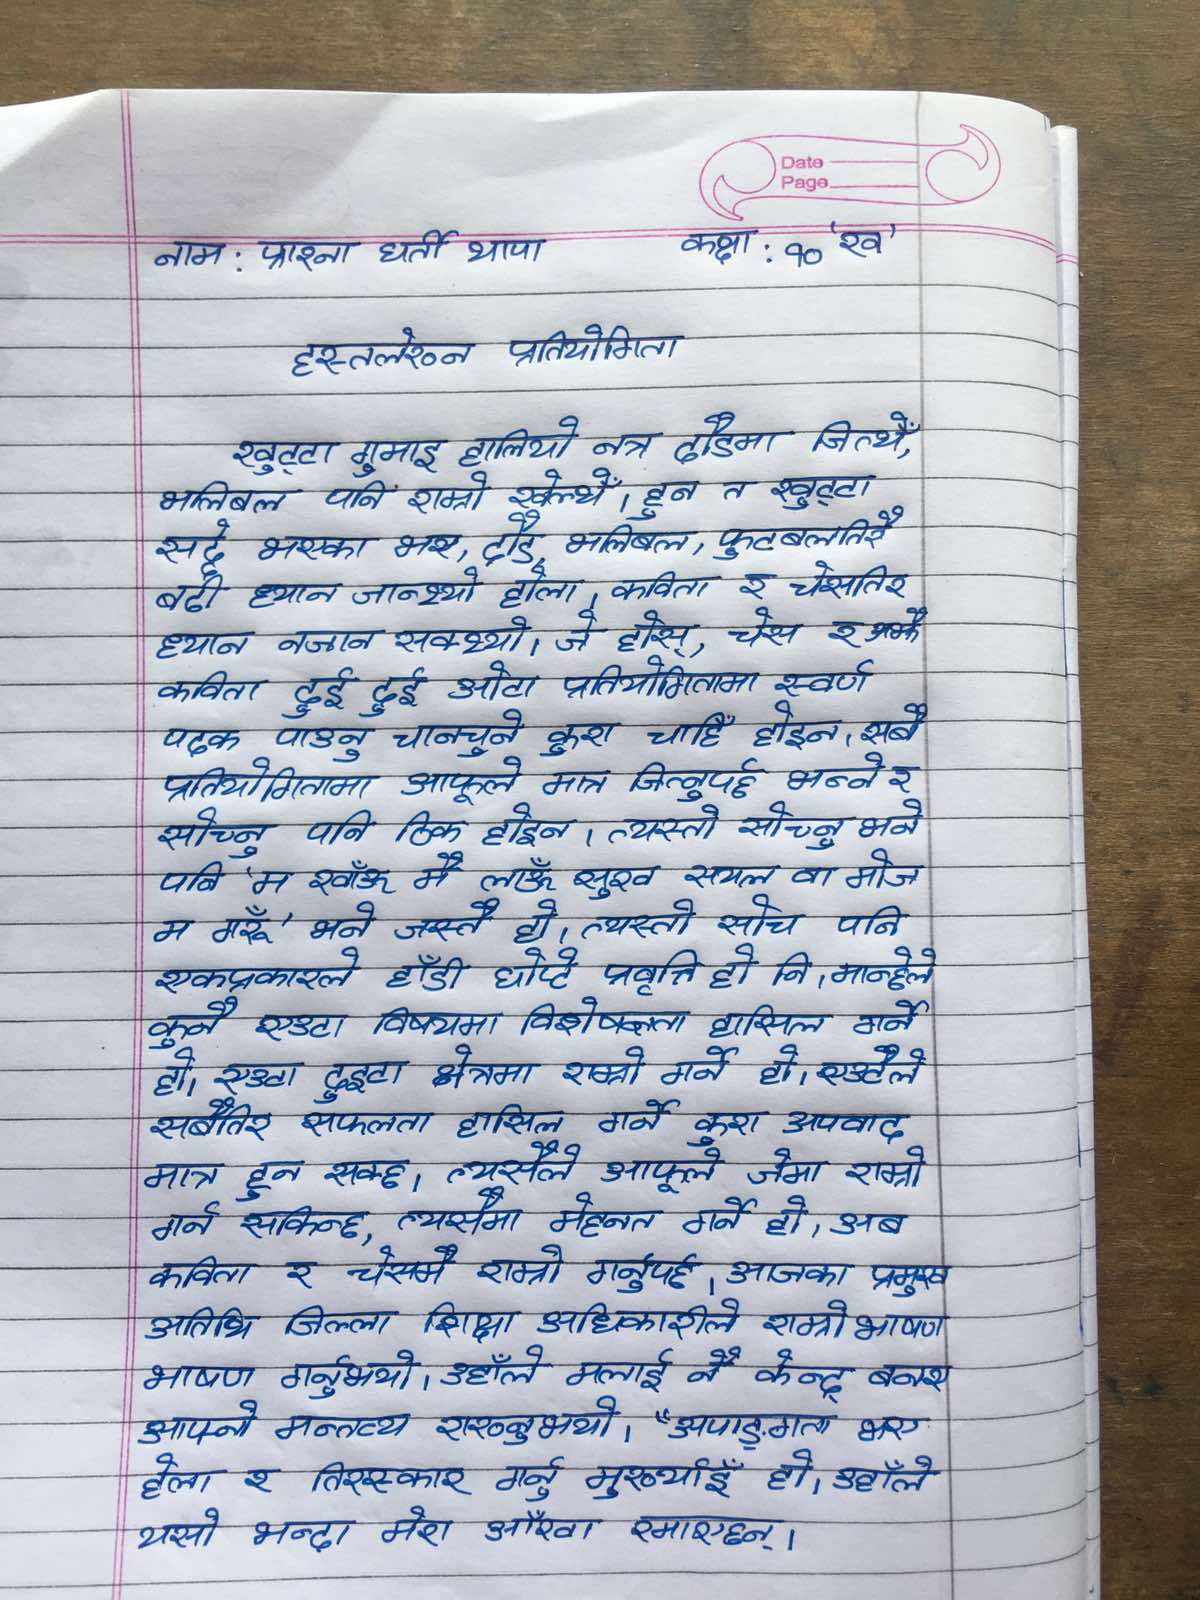text: (711, 505, 916, 562), (289, 321, 476, 383), (430, 1393, 624, 1449), (151, 758, 379, 804), (154, 946, 366, 994), (560, 653, 765, 700), (502, 319, 687, 370), (581, 1454, 745, 1508), (517, 995, 692, 1044), (624, 1508, 787, 1558), (668, 1403, 839, 1450), (391, 1183, 528, 1241), (539, 1298, 746, 1335), (620, 755, 771, 805), (135, 1396, 266, 1454), (669, 409, 798, 466), (149, 805, 282, 859), (153, 472, 308, 519), (456, 412, 586, 467), (308, 1456, 475, 1499), (441, 1136, 584, 1187), (391, 706, 527, 757), (277, 1351, 424, 1398), (142, 1094, 280, 1144), (237, 1197, 372, 1247), (398, 755, 529, 806), (599, 936, 706, 999), (776, 1099, 916, 1146), (813, 404, 925, 464), (579, 1246, 707, 1298), (749, 1344, 858, 1405), (340, 1240, 465, 1293), (391, 612, 532, 658), (828, 944, 949, 997), (547, 1189, 663, 1243), (271, 1403, 413, 1448), (732, 801, 852, 853), (724, 1249, 858, 1294), (600, 1148, 727, 1196), (429, 1041, 541, 1095), (480, 1506, 609, 1552), (787, 556, 914, 602), (579, 896, 702, 944), (814, 1041, 932, 1091), (366, 1000, 507, 1042), (822, 1453, 945, 1499), (562, 1346, 682, 1393), (147, 991, 242, 1052), (274, 1299, 400, 1344), (703, 1002, 832, 1046), (294, 1104, 444, 1141), (350, 569, 487, 611), (437, 1342, 555, 1390), (745, 700, 846, 755), (603, 803, 725, 847), (508, 466, 618, 515), (141, 1304, 266, 1347), (132, 1500, 226, 1557), (393, 897, 503, 945), (132, 1449, 227, 1504), (252, 529, 379, 569), (147, 1250, 263, 1294), (266, 717, 376, 763), (563, 522, 698, 559), (444, 658, 543, 708), (315, 1052, 412, 1104), (228, 433, 342, 477), (253, 232, 369, 275), (418, 1296, 522, 1344), (782, 747, 887, 794), (151, 517, 238, 573), (250, 1514, 361, 1558), (135, 1359, 263, 1397), (153, 668, 268, 709), (456, 1099, 568, 1141), (717, 891, 808, 944), (571, 850, 666, 901), (489, 944, 584, 994), (843, 842, 926, 898), (613, 602, 700, 656), (722, 602, 809, 656), (473, 1241, 568, 1290), (839, 1145, 933, 1196), (769, 658, 879, 700), (557, 1041, 652, 1090), (765, 472, 884, 511), (608, 566, 726, 605), (250, 1005, 357, 1048), (382, 947, 475, 997), (587, 1094, 683, 1140), (677, 854, 787, 894), (643, 706, 737, 752), (349, 433, 449, 477), (280, 663, 355, 721), (371, 223, 463, 270), (306, 854, 401, 900), (759, 1298, 852, 1343), (855, 1305, 953, 1348), (151, 625, 262, 663), (211, 1058, 311, 1100), (374, 1503, 458, 1553), (321, 1150, 411, 1197), (305, 894, 386, 946), (408, 469, 495, 517), (492, 1453, 570, 1506), (245, 576, 349, 615), (674, 222, 763, 267), (476, 808, 575, 848), (498, 564, 585, 610), (742, 1146, 829, 1192), (363, 661, 432, 718), (658, 1042, 740, 1090), (683, 1104, 765, 1151), (145, 1199, 226, 1247), (274, 625, 391, 658), (458, 229, 552, 270), (392, 803, 471, 850), (863, 1357, 961, 1396), (534, 716, 623, 758), (229, 1157, 310, 1203), (478, 854, 562, 898), (479, 510, 545, 567), (863, 1257, 955, 1298), (855, 700, 932, 748), (153, 855, 233, 901), (154, 572, 232, 619), (847, 993, 932, 1036), (303, 804, 379, 850), (209, 901, 280, 951), (402, 840, 470, 892), (316, 475, 401, 517), (861, 603, 935, 650), (853, 797, 928, 844), (137, 1155, 223, 1196), (753, 1188, 814, 1243), (679, 1196, 761, 1237), (147, 233, 232, 273), (832, 900, 911, 942), (158, 719, 245, 758), (387, 527, 464, 569), (829, 1204, 916, 1242), (759, 1448, 819, 1499), (149, 1043, 198, 1102), (855, 1410, 932, 1448), (637, 476, 708, 517), (541, 761, 613, 800), (591, 426, 664, 464), (755, 1037, 802, 1096), (684, 1344, 744, 1390), (553, 609, 609, 656), (706, 942, 763, 989), (511, 896, 558, 947), (763, 946, 816, 993), (784, 854, 842, 894), (274, 1252, 325, 1295), (247, 860, 299, 902), (821, 614, 870, 655), (147, 910, 202, 946), (834, 224, 890, 260), (237, 1460, 290, 1497), (779, 234, 827, 272), (734, 566, 782, 603), (885, 760, 925, 803), (718, 475, 756, 508)
